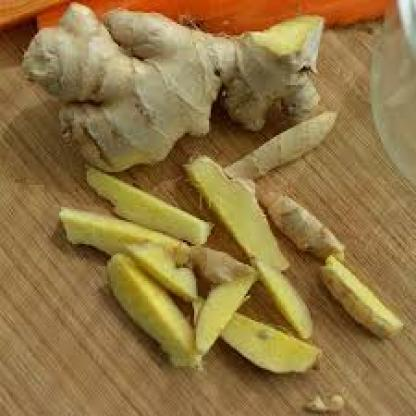Disposable tableware: (9, 5, 416, 416)
